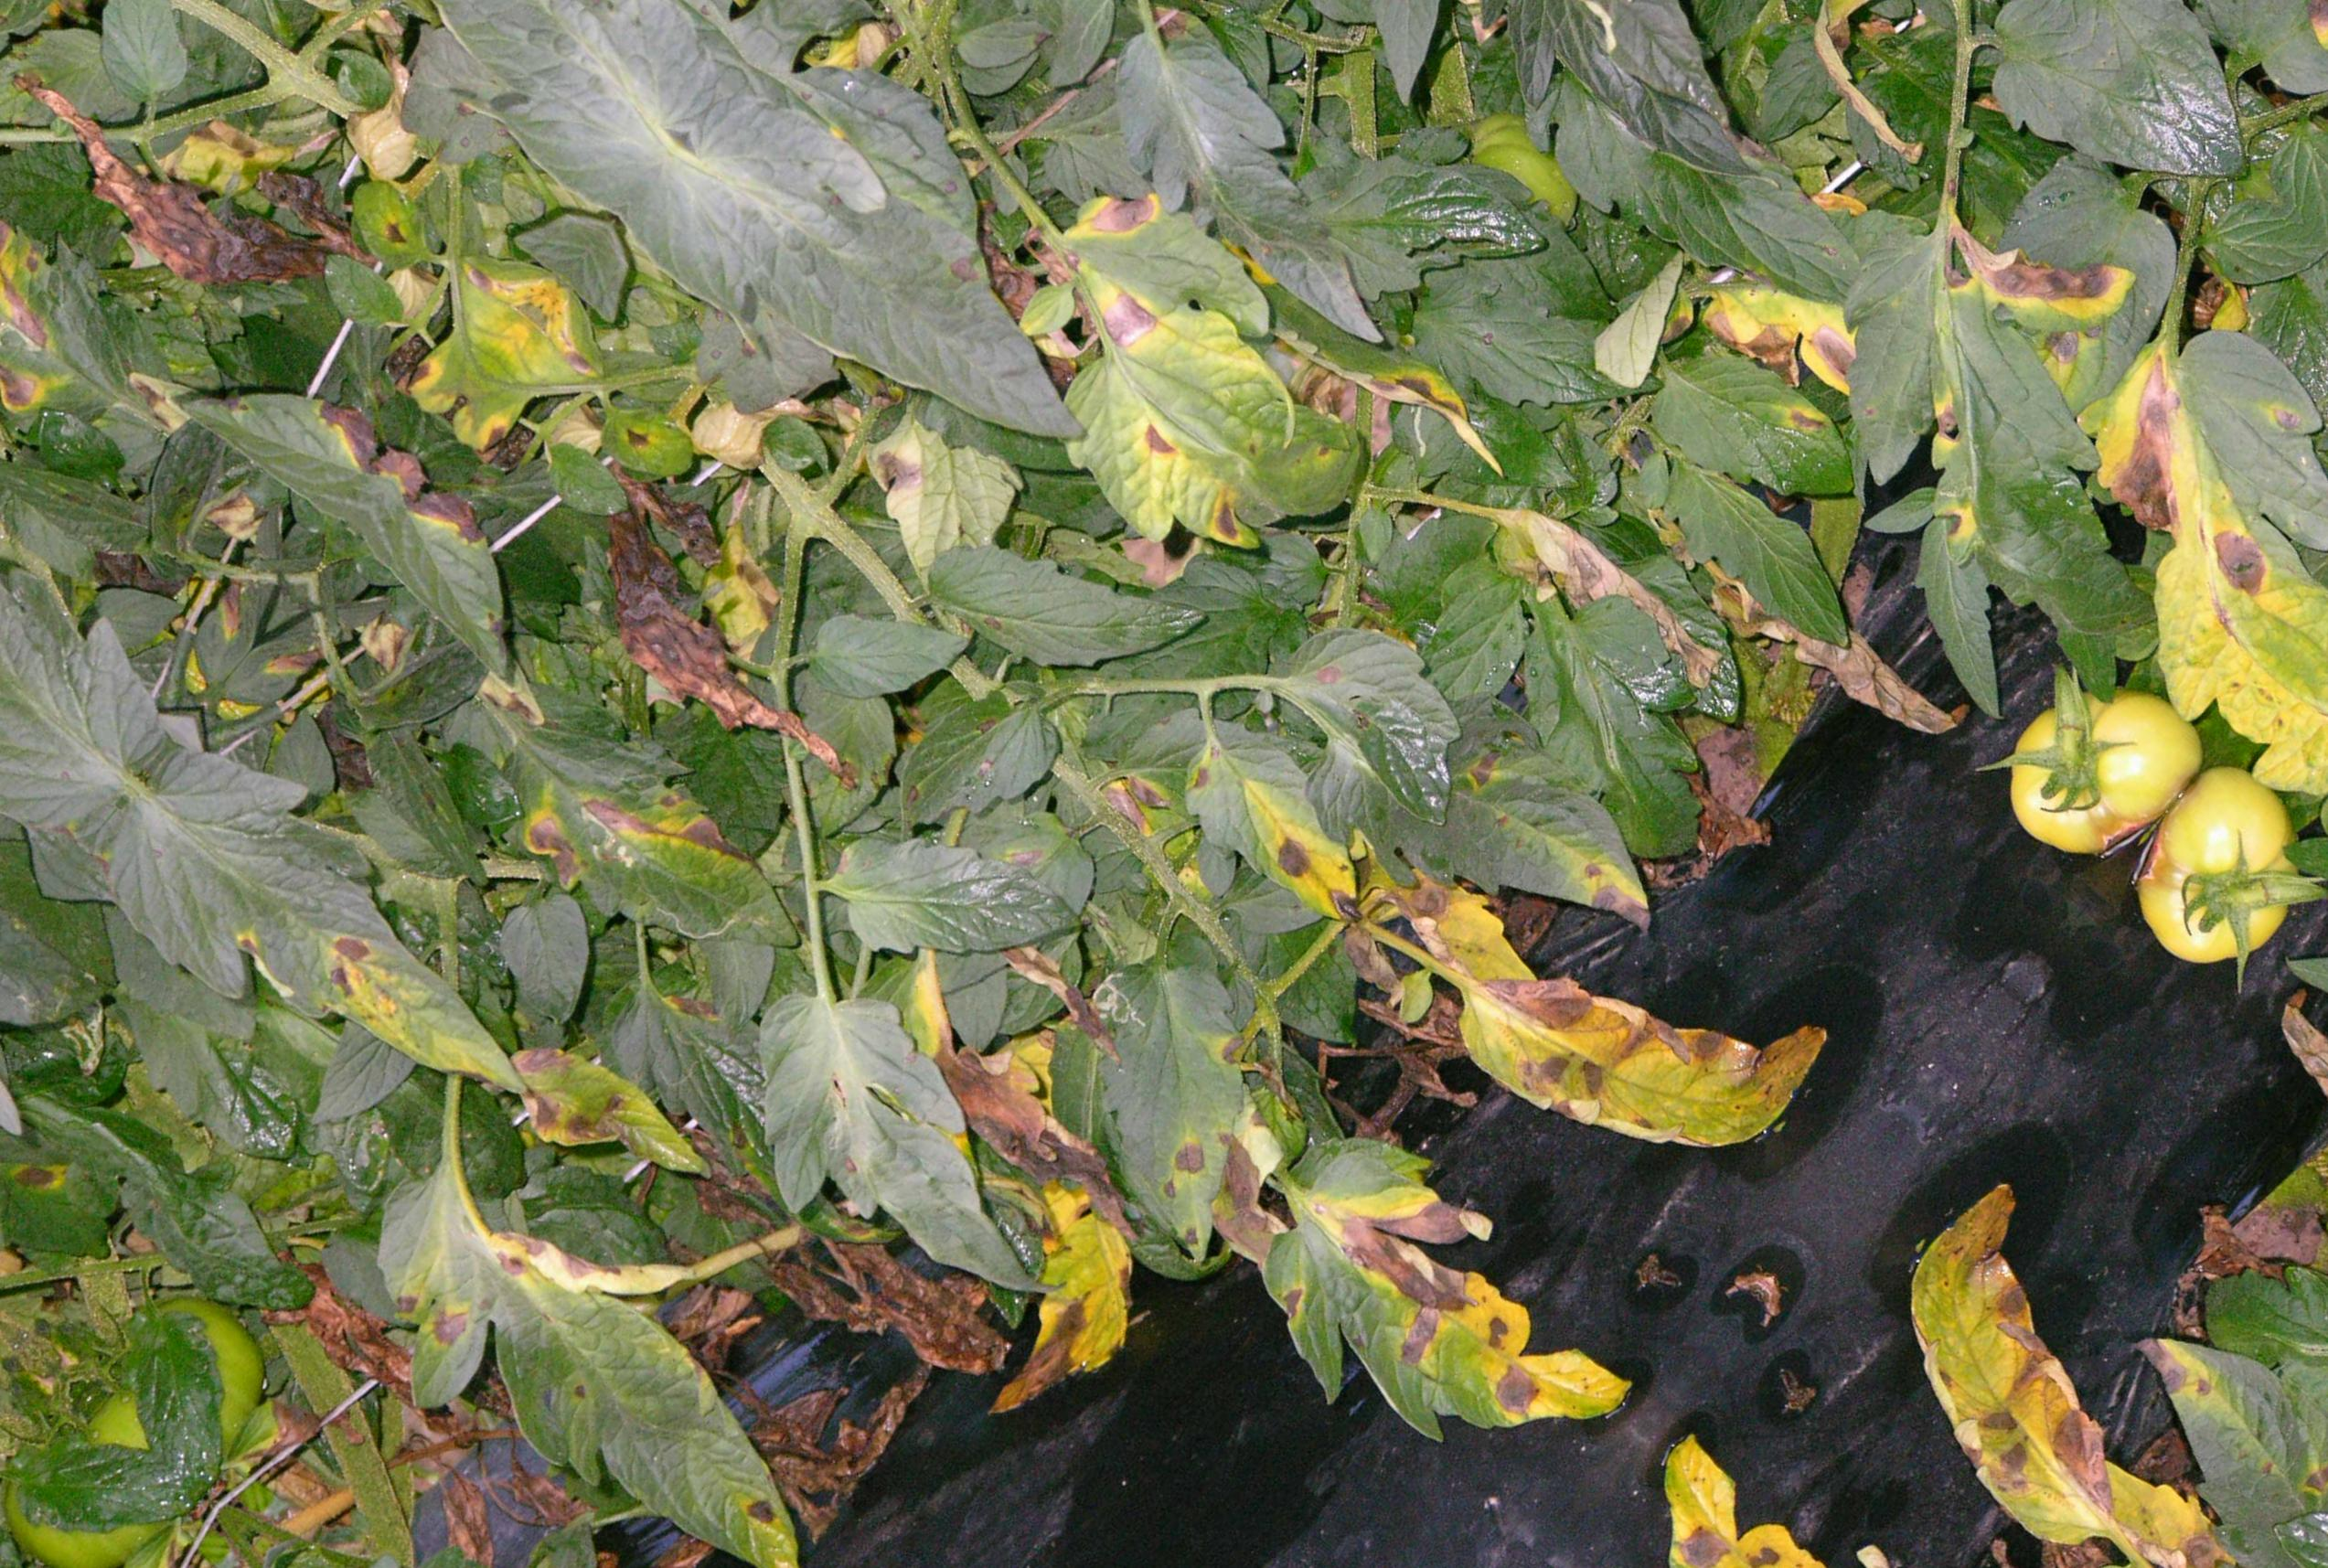Tomato Early blight leaf: (268, 1088, 894, 1568), (1376, 803, 1918, 1323), (56, 675, 599, 1193), (1218, 1095, 1691, 1543), (429, 626, 847, 1018), (1976, 261, 2328, 724), (1034, 264, 1383, 611), (1609, 292, 1925, 597), (1141, 684, 1416, 941), (471, 997, 716, 1235)
Tomato leaf: (1075, 33, 1451, 376), (905, 458, 1218, 765), (800, 758, 1101, 1052), (441, 259, 737, 556), (1953, 0, 2254, 268), (1267, 0, 1514, 100)
